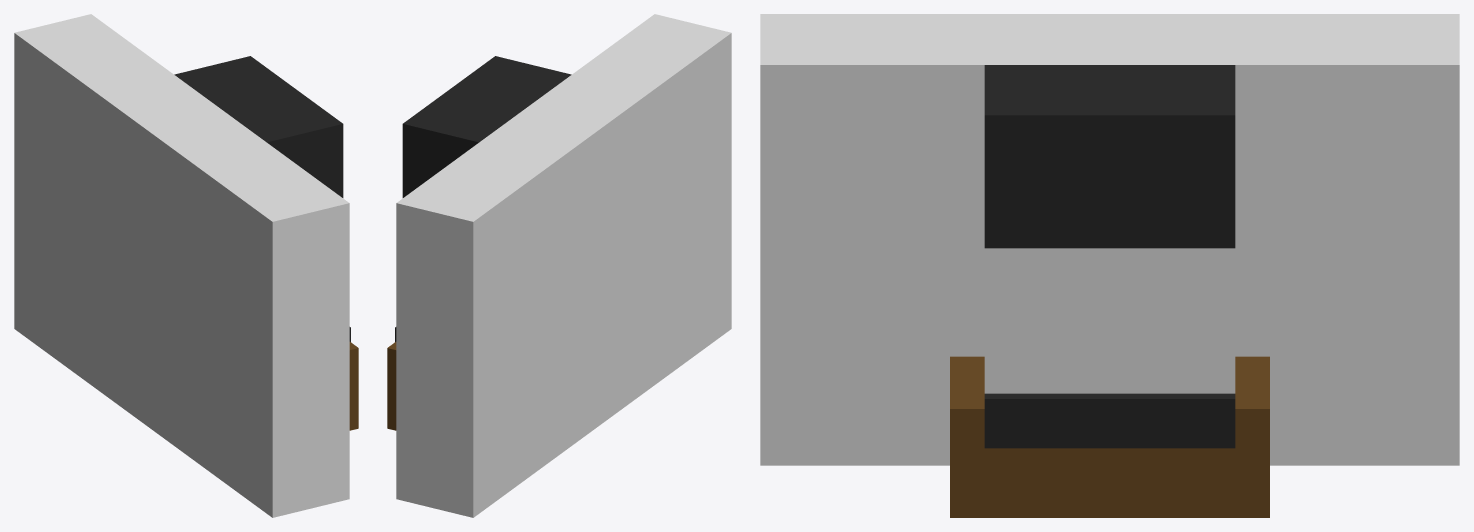
Rendered from Modern_Fireplace.fbx.
3 views of the same model, side by side, from view 1: azimuth 30°, elevation 25°; view 2: azimuth 150°, elevation 25°; view 3: azimuth 270°, elevation 25° (orthographic). The views are drawn at different scales.
Parts seen in each view (by area): view 1: Cube.001, Fireplace_Upper, Cube; view 2: Cube.001, Fireplace_Upper, Cube; view 3: Cube.001, Fireplace_Upper, Windwo, Cube.
Boxes of the visible parts, x1,y1,x2,y2 form: Cube.001: (14, 14, 349, 517); Fireplace_Upper: (174, 56, 350, 341); Cube: (349, 342, 358, 430); Cube.001: (396, 14, 731, 517); Fireplace_Upper: (395, 56, 571, 341); Cube: (387, 342, 396, 430); Cube.001: (760, 14, 1459, 465); Fireplace_Upper: (984, 65, 1235, 448); Windwo: (984, 248, 1235, 393); Cube: (950, 356, 1269, 517).
Size of the model in its own units: 419 by 735 by 1162.
